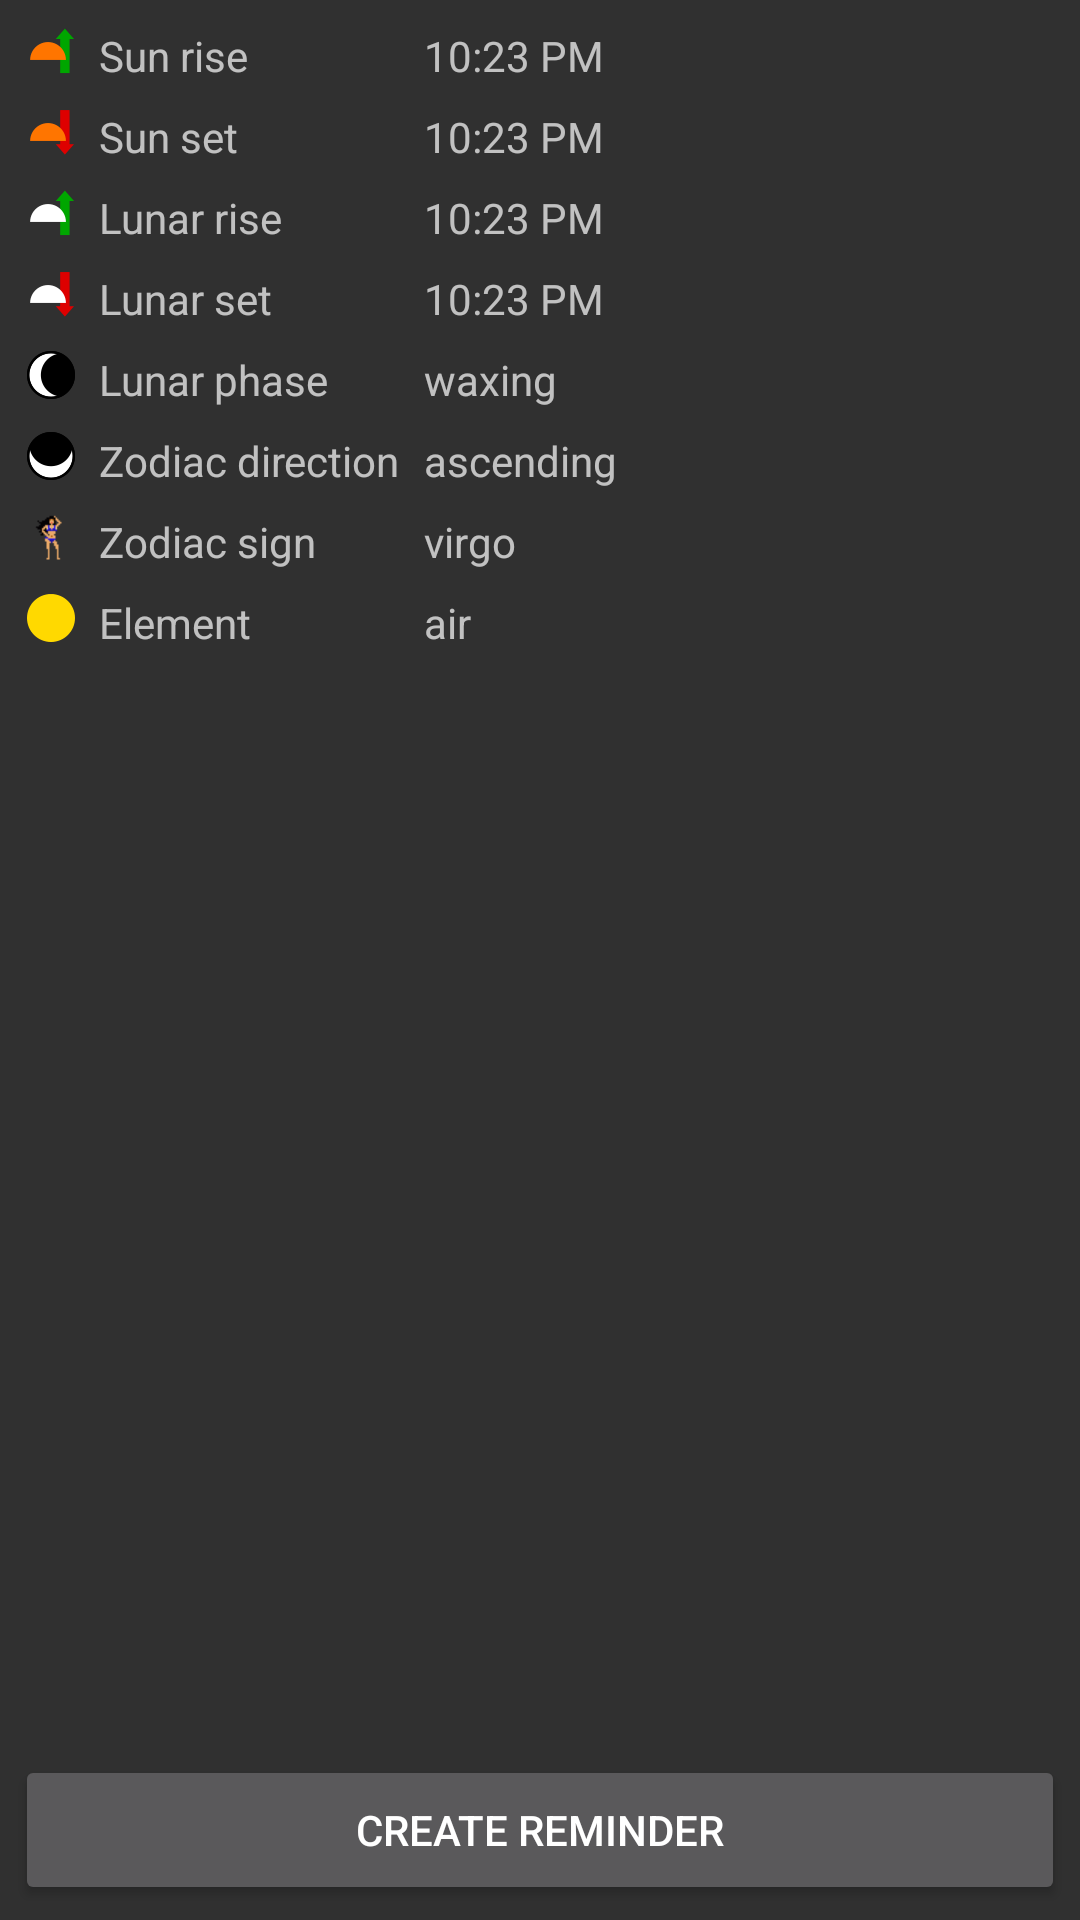

Where icons sit on this 1080px x 1920px app screen, as (left=x1, top=y1, right=x2, bottom=y2):
virgo: (left=36, top=515, right=62, bottom=560)
waxing: (left=27, top=351, right=75, bottom=399)
